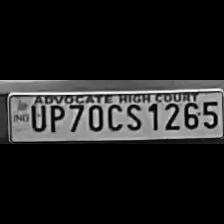0: (86, 100, 104, 132)
1: (145, 100, 161, 132)
2: (160, 100, 180, 130)
5: (200, 97, 218, 129)
6: (181, 99, 199, 129)
7: (65, 100, 84, 132)
C: (104, 100, 122, 132)
P: (46, 100, 64, 134)
S: (123, 100, 143, 132)
U: (27, 100, 45, 132)
